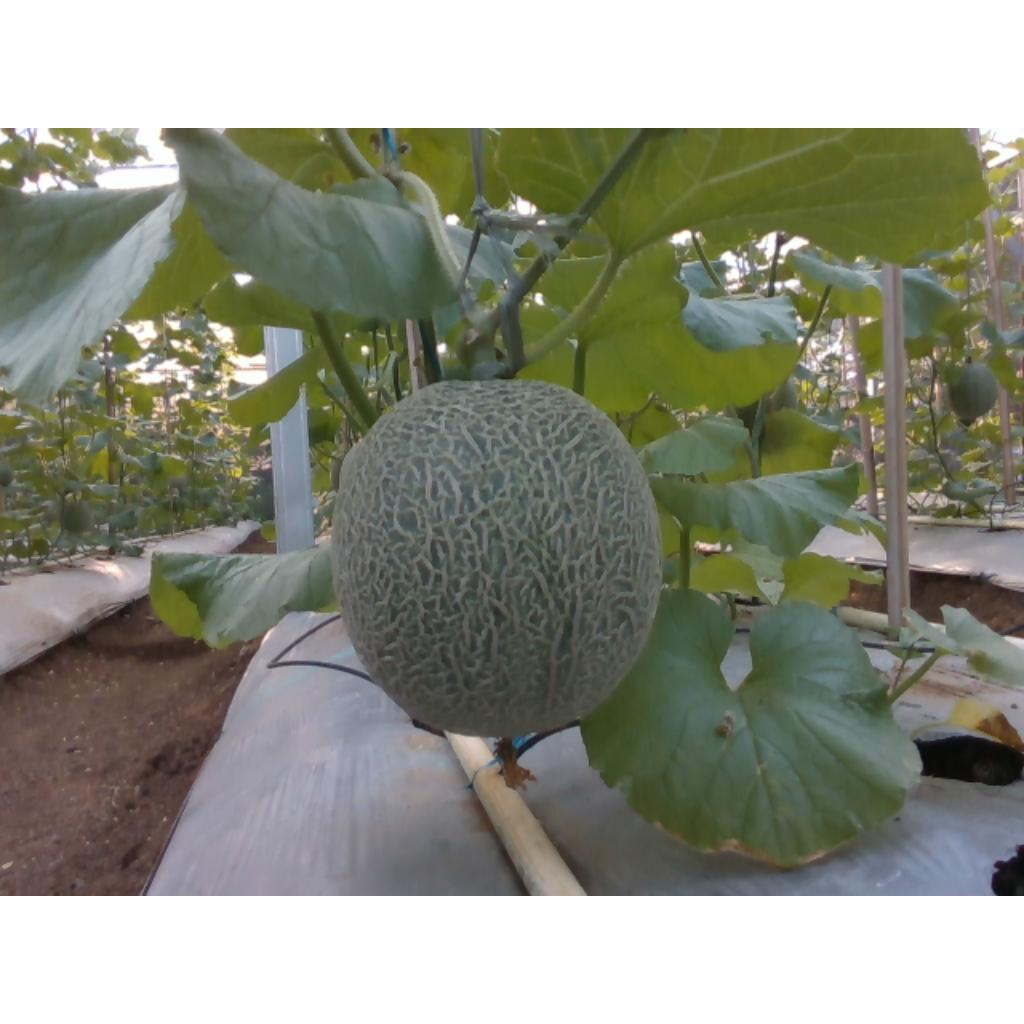melon: (333, 381, 662, 737)
